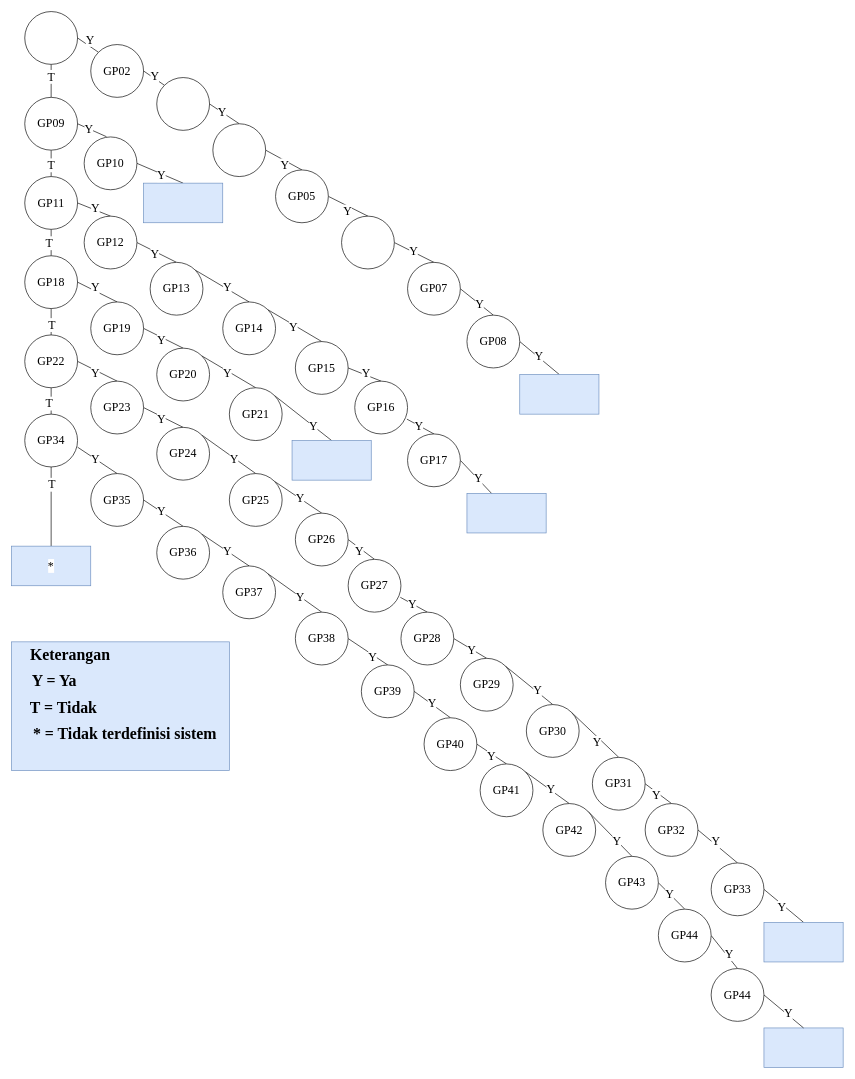
Some shapes in this 855 by 1079 pixel diagram are drawn without their labels. Here are the shapes that lost their labels. From the top down, the centre of each, then its label:
the point at 51,37: GP01
the point at 183,103: GP03
the point at 239,150: GP04
the point at 183,202: SZ-D
the point at 367,242: GP06
the point at 559,394: PZ
the point at 331,460: SZ-P
the point at 506,513: SZ-K
the point at 803,942: BP-I
the point at 803,1047: BP-II
